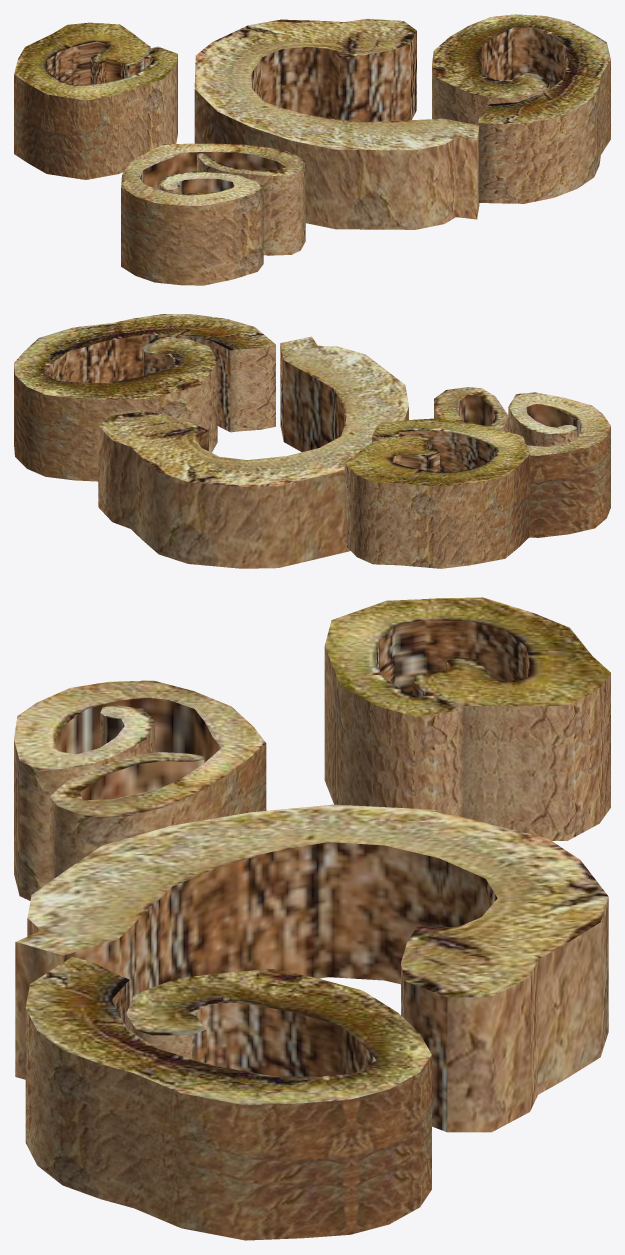
The model's file is sangbaipi.FBX.
3 views of the same model, one above another, from view 1: azimuth 30°, elevation 25°; view 2: azimuth 150°, elevation 25°; view 3: azimuth 270°, elevation 25° (orthographic). The views are drawn at different scales.
Parts seen in each view (by area): view 1: Line003, Line005, Line004, Line002; view 2: Line003, Line005, Line002, Line004; view 3: Line003, Line005, Line002, Line004.
Boxes of the visible parts, x1,y1,x2,y2 form: Line003: (194,18,479,229); Line005: (432,14,610,203); Line004: (121,143,305,285); Line002: (14,22,177,179); Line003: (98,336,408,568); Line005: (14,314,275,481); Line002: (344,418,530,568); Line004: (434,387,610,537); Line003: (15,804,608,1132); Line005: (25,956,431,1240); Line002: (324,597,610,840); Line004: (14,680,266,900).
Bounding box in the file's own units: 37.83 × 8.54 × 22.03.
Materials: 1 (1 with a texture image).
